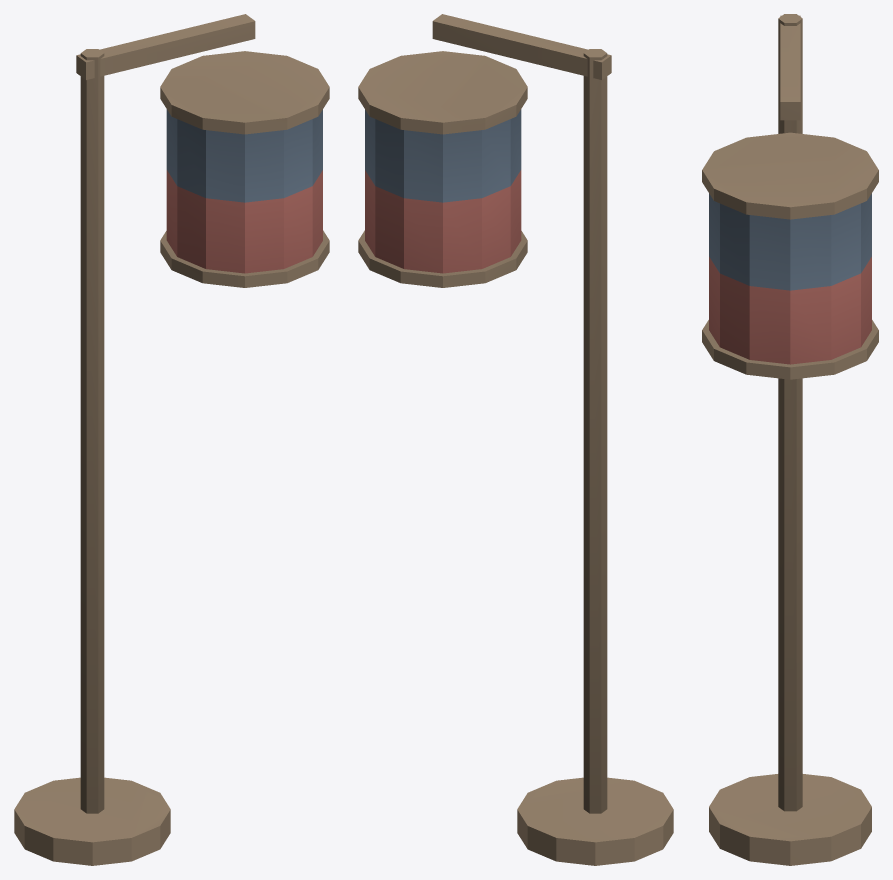
Rendered from furn_cheongsa_lantern__blue_red.glb.
3 views of the same model, side by side, from view 1: azimuth 30°, elevation 25°; view 2: azimuth 150°, elevation 25°; view 3: azimuth 270°, elevation 25° (orthographic). The views are drawn at different scales.
Size of the model in its own units: 0.52 by 1.32 by 0.26.
